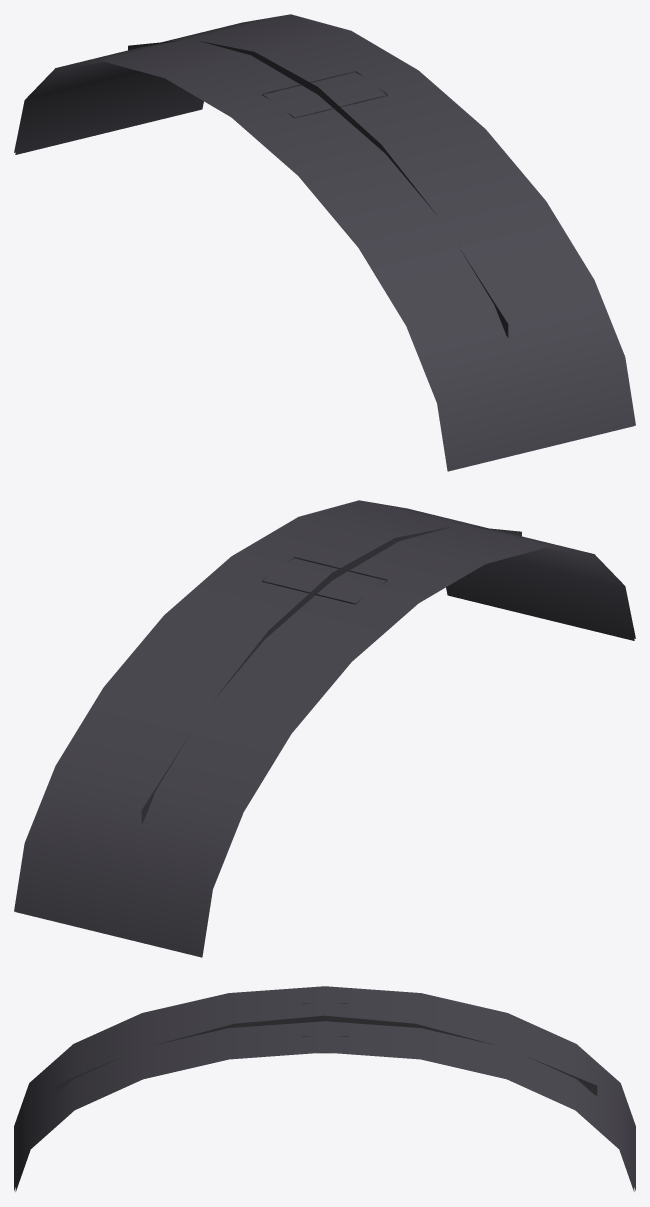
File: ceiling01.fbx
The picture shows the model from 3 angles, top to bottom: view 1: azimuth 30°, elevation 25°; view 2: azimuth 150°, elevation 25°; view 3: azimuth 270°, elevation 25°; orthographic projection. The views are drawn at different scales.
Parts seen in each view (by area): view 1: Circle; view 2: Circle; view 3: Circle.
Part boxes in pixels (x1=…): Circle: x1=14, y1=14, x2=635, y2=471; Circle: x1=14, y1=500, x2=635, y2=957; Circle: x1=14, y1=986, x2=635, y2=1191.
Size of the model in its own units: 2 by 2.1 by 8.04.
1 material, 1 textured.
